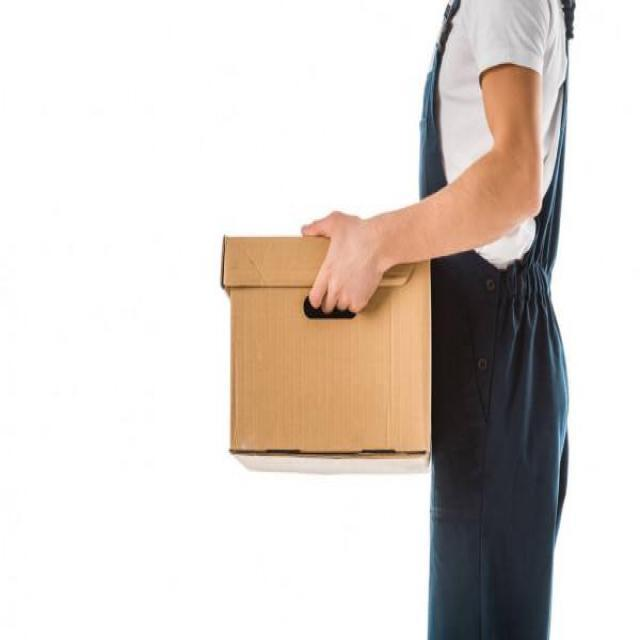box: (211, 216, 439, 494)
